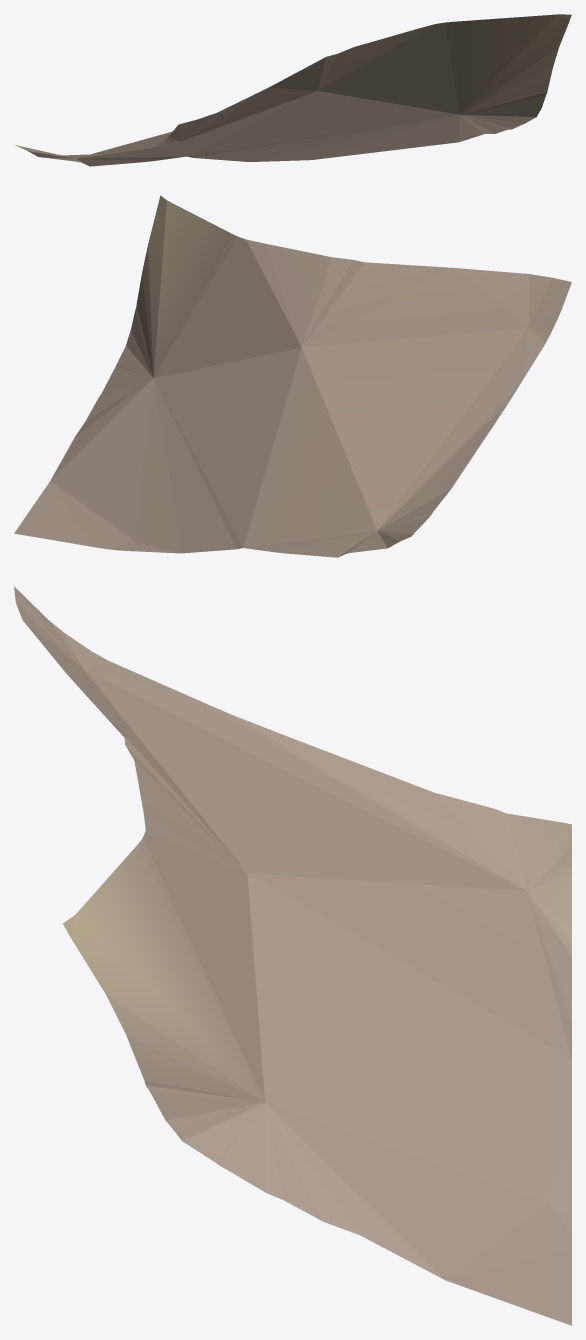
File: bisect-7-2-8.gltf
3 views of the same model, one above another, from view 1: azimuth 30°, elevation 25°; view 2: azimuth 150°, elevation 25°; view 3: azimuth 270°, elevation 25° (orthographic). The views are drawn at different scales.
Visible parts, largest first — view 1: bisect-7-2-8; view 2: bisect-7-2-8; view 3: bisect-7-2-8.
Part boxes in pixels (bbox=[...]): bisect-7-2-8: bbox=[15, 14, 571, 166]; bisect-7-2-8: bbox=[14, 195, 571, 557]; bisect-7-2-8: bbox=[14, 586, 571, 1325].
Bounding box in the file's own units: 20 × 11.11 × 13.97.
